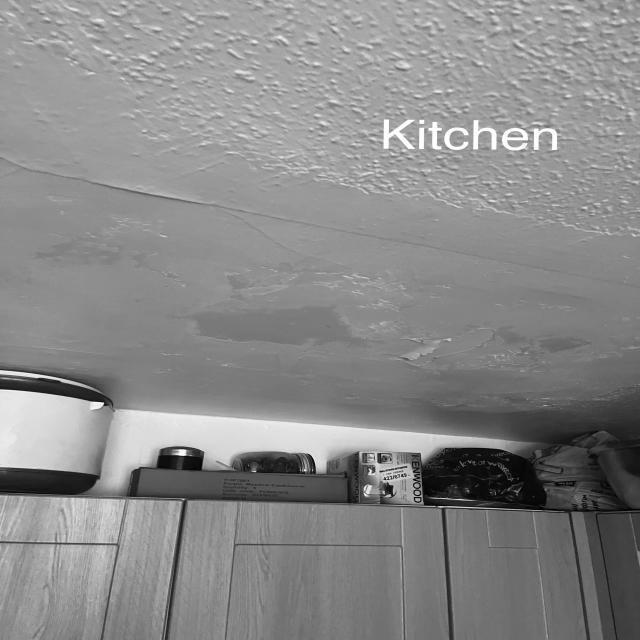stain marks: (170, 254, 446, 368), (455, 264, 618, 432), (32, 206, 144, 298), (389, 364, 454, 422)
